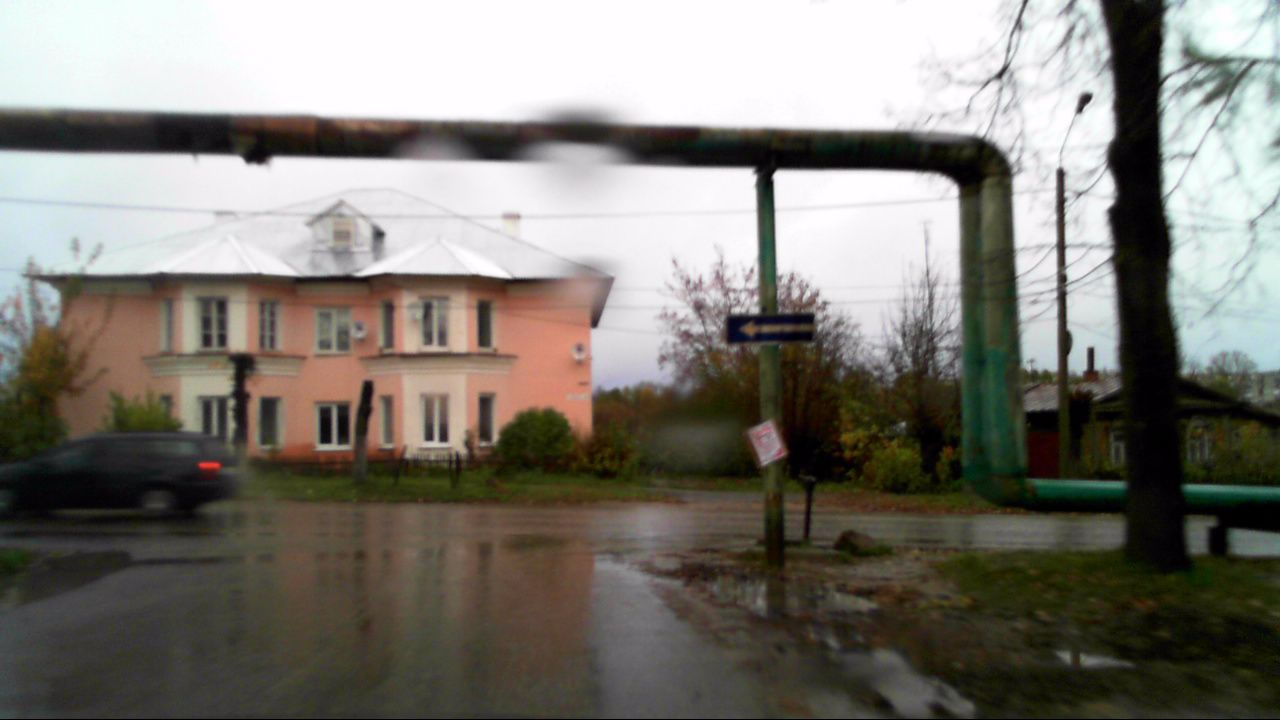One-Way Traffic: (727, 314, 814, 341)
